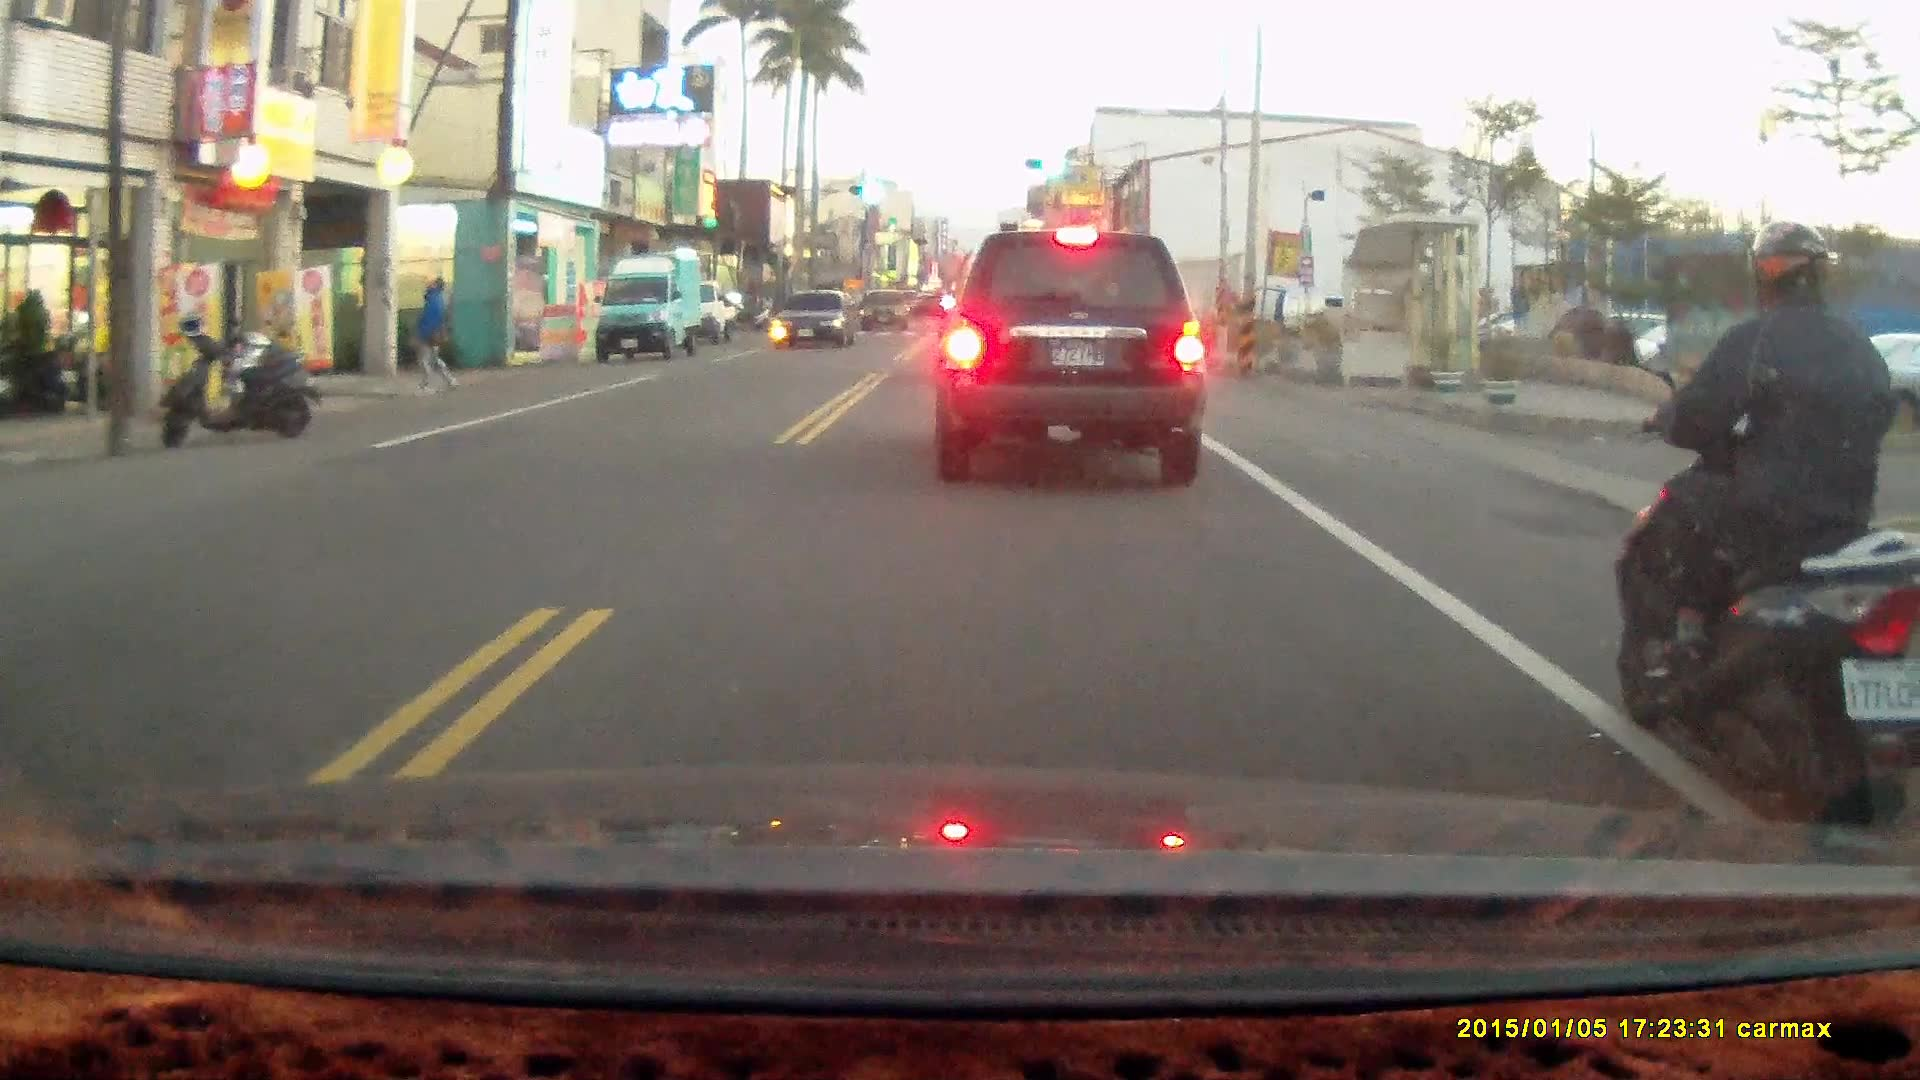pedestrian: (412, 275, 455, 401)
rider: (1615, 213, 1920, 836)
vehicle: (928, 228, 1211, 482), (588, 243, 707, 366), (773, 290, 863, 351), (859, 290, 912, 335)
